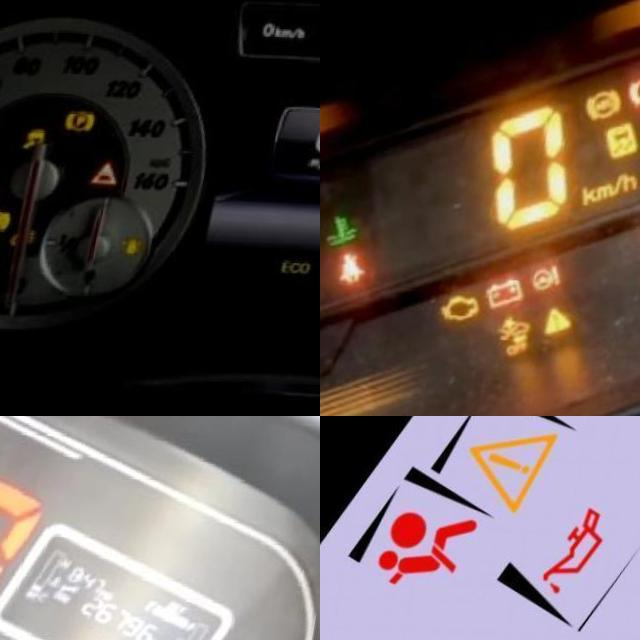Engine cooling system: (321, 205, 372, 250)
Low fuel level: (149, 229, 169, 251)
